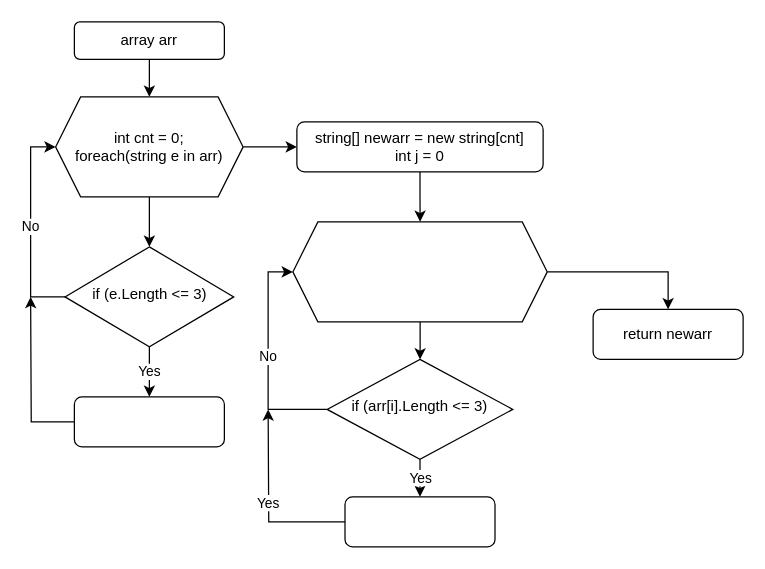
This 765x569 diagram has some shape labels left out. The shapes that lost their labels are listed below. From the top down, each one's centre as x and y in pixels, then its label:
the point at 419,271: for (int i=0; i<arr.Length; i++)
the point at 148,421: cnt++
the point at 419,521: newarr[j] = arr[i] j++
